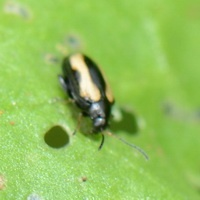insect: (58, 53, 148, 159)
